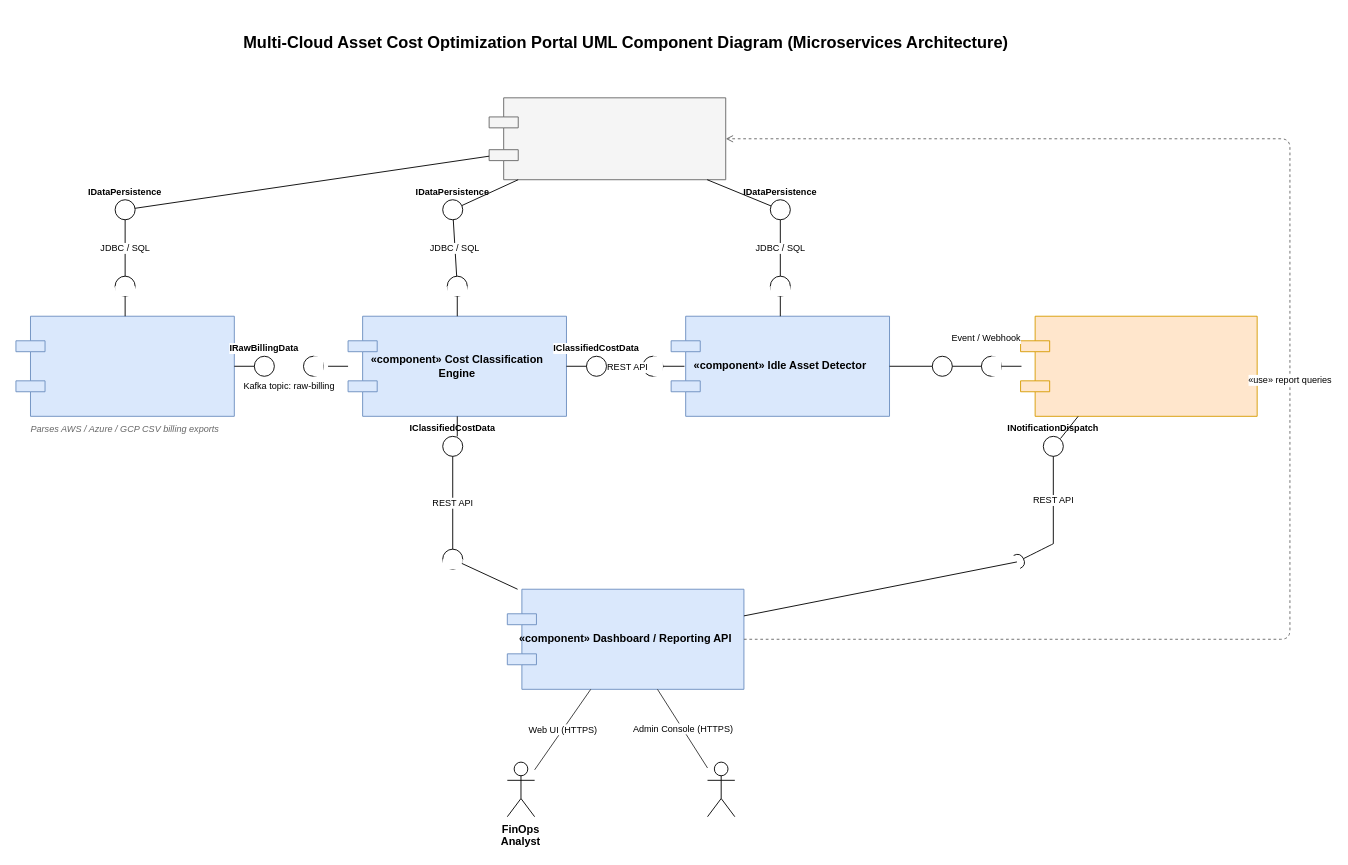
Image size: 1348x865. Some labels were removed from this diagram. The centre of each missing label's shape, as x and y in pixels:
"Cloud Administrator" belongs at [721,789].
"IIdleAssetAlert" belongs at [941,365].
"«component» Alerting & Notification Service" belongs at [1138,365].
"«component» Billing Data Repository" belongs at [607,138].
"«component» Billing Ingestion Service" belongs at [124,365].
